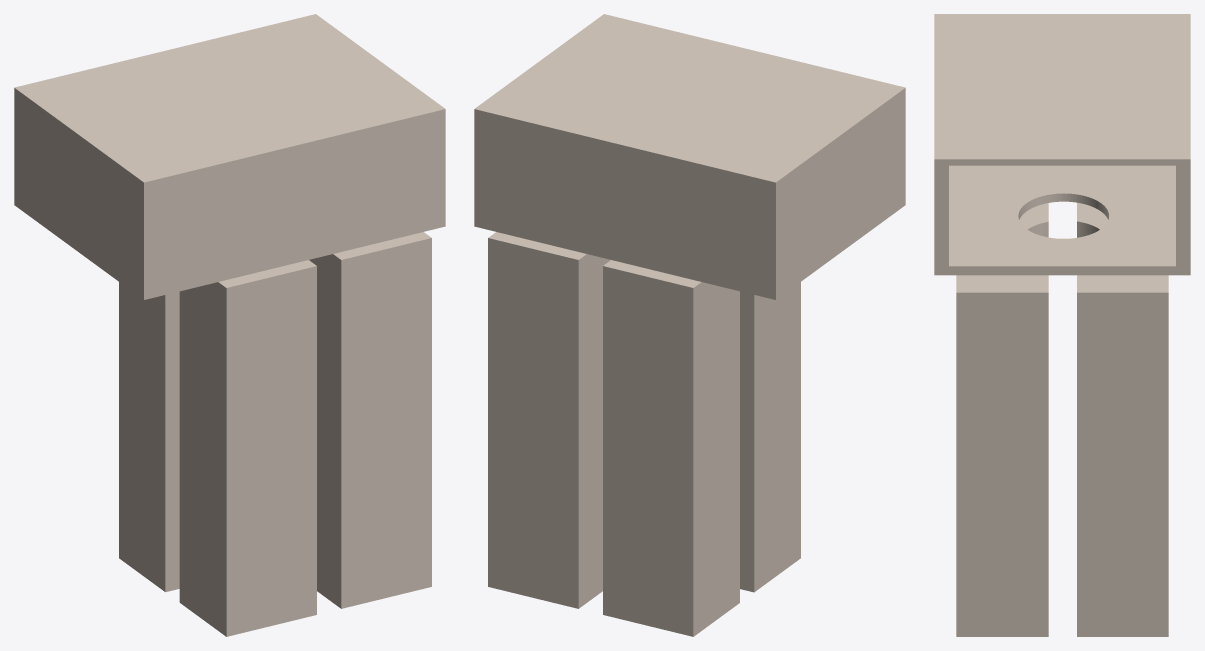
The model's file is room3.glb.
3 renders of one model, left to right at view 1: azimuth 30°, elevation 25°; view 2: azimuth 150°, elevation 25°; view 3: azimuth 270°, elevation 25°, orthographic.
Parts seen in each view (by area): view 1: columns, room; view 2: columns, room; view 3: columns, room.
Part boxes in pixels (x1=…): columns: x1=119, y1=232, x2=431, y2=636; room: x1=14, y1=14, x2=445, y2=299; columns: x1=488, y1=232, x2=800, y2=636; room: x1=474, y1=14, x2=905, y2=299; columns: x1=956, y1=202, x2=1168, y2=636; room: x1=934, y1=14, x2=1190, y2=275.
Size of the model in its own units: 6.88 by 10.58 by 5.13.
Materials: 1 (1 with a texture image).
